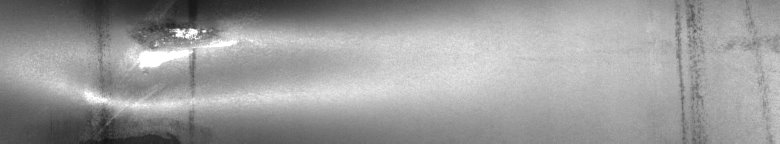ke: (76, 4, 306, 136)
